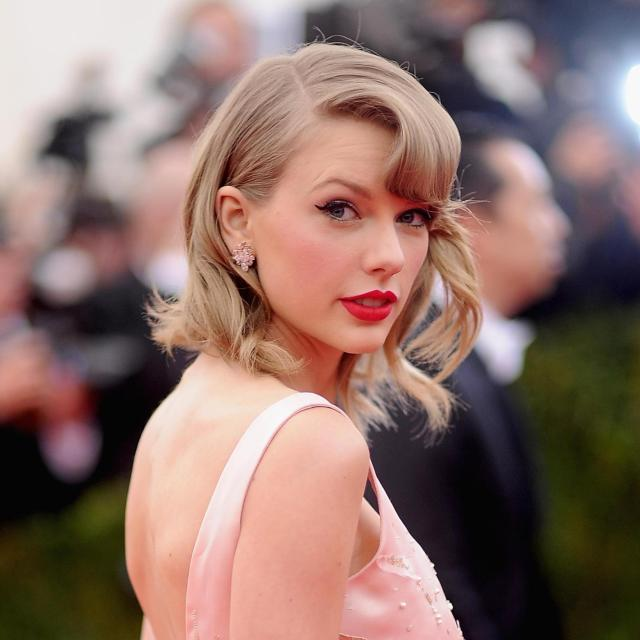mobile_phonerotation: (123, 38, 488, 638)
